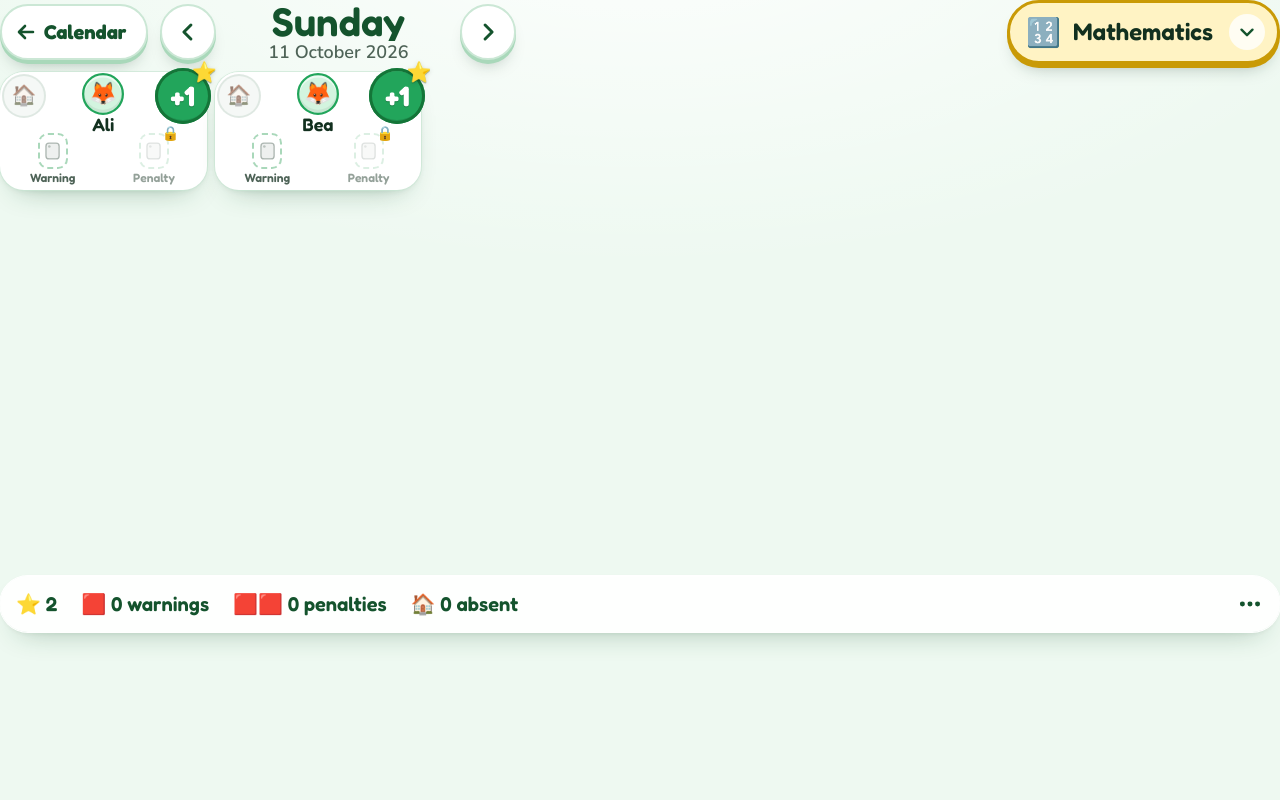
Day view › cancelling the lesson a day opened on stays on that subject
The image size is (1280, 800).
Expected: the button with aria-label "Warning for Ali" is shown, [4, 129, 101, 186]
Press Enter in the button named "More lesson options", box [1222, 576, 1278, 632]
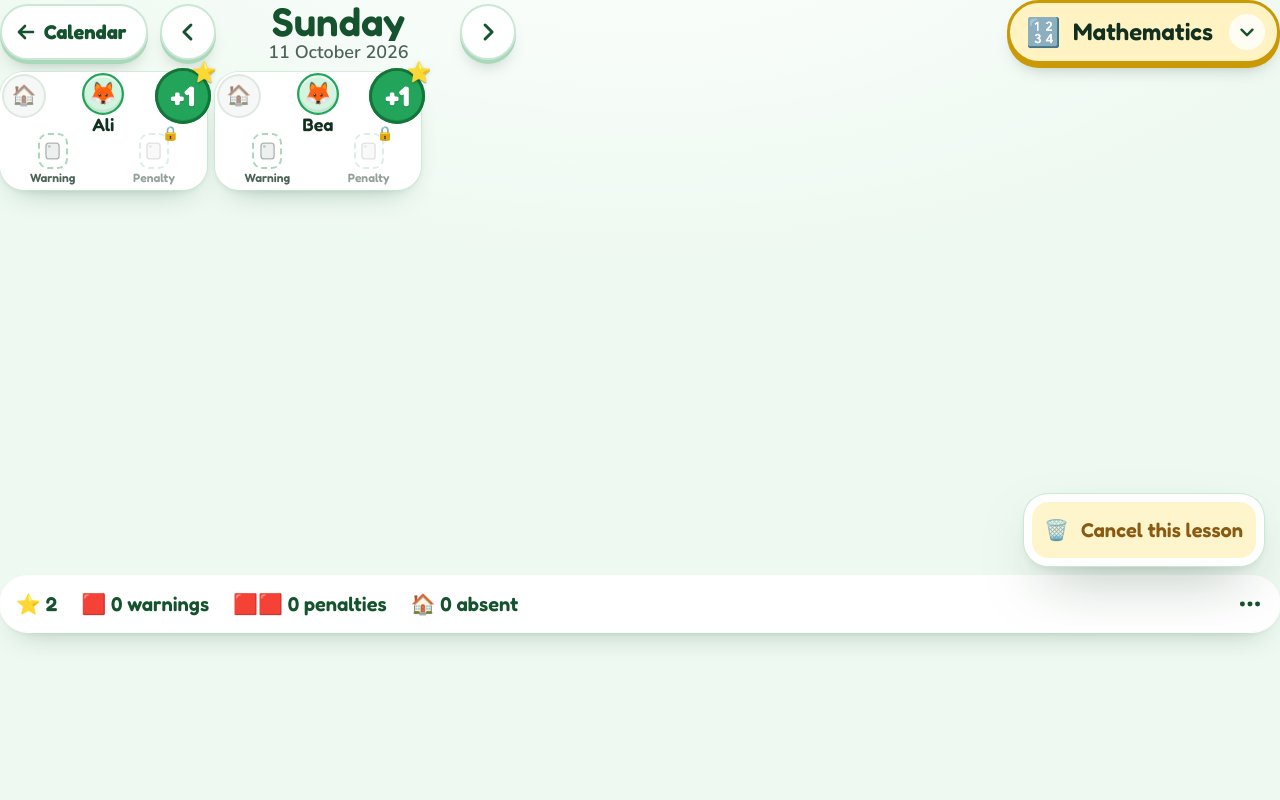
Click the menu item "🗑️ Cancel this lesson" at (1144, 530), box [1032, 502, 1256, 558]
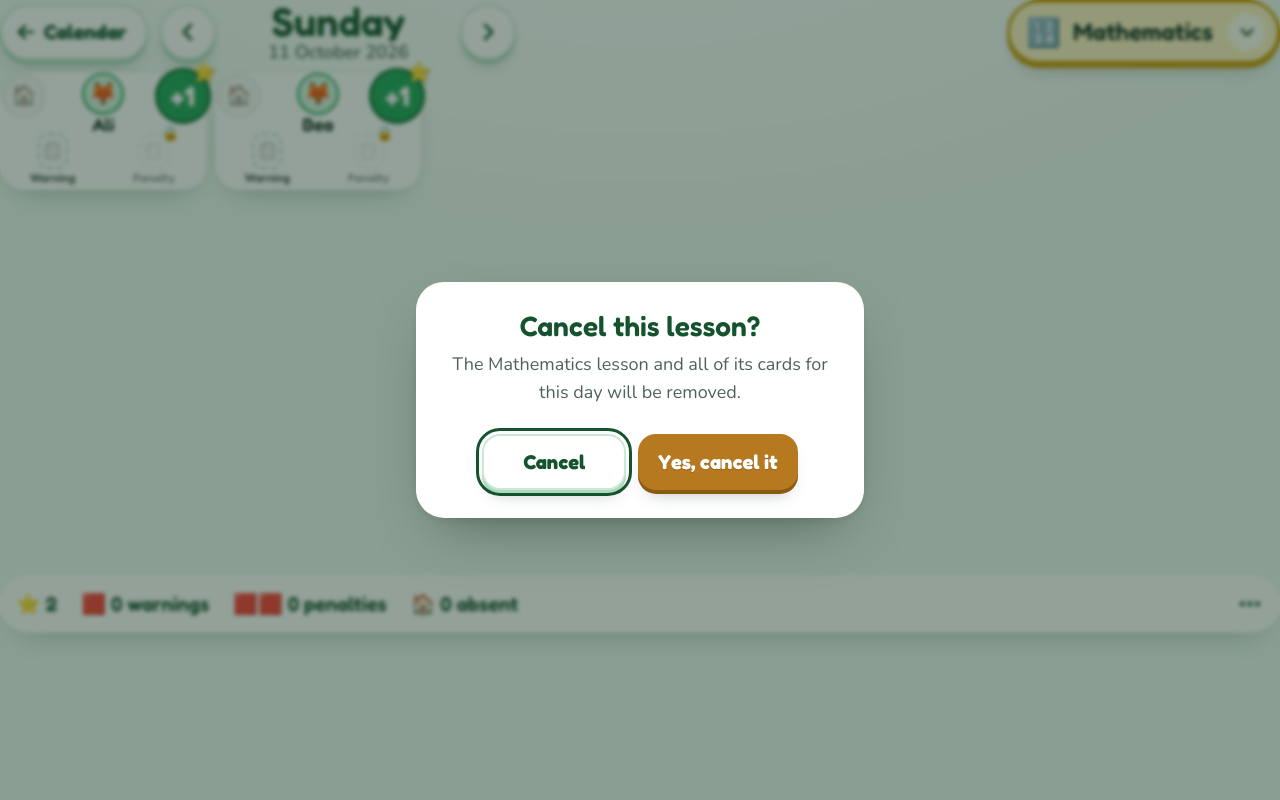
Click the button "Yes, cancel it" at (718, 462), box [638, 434, 798, 490]
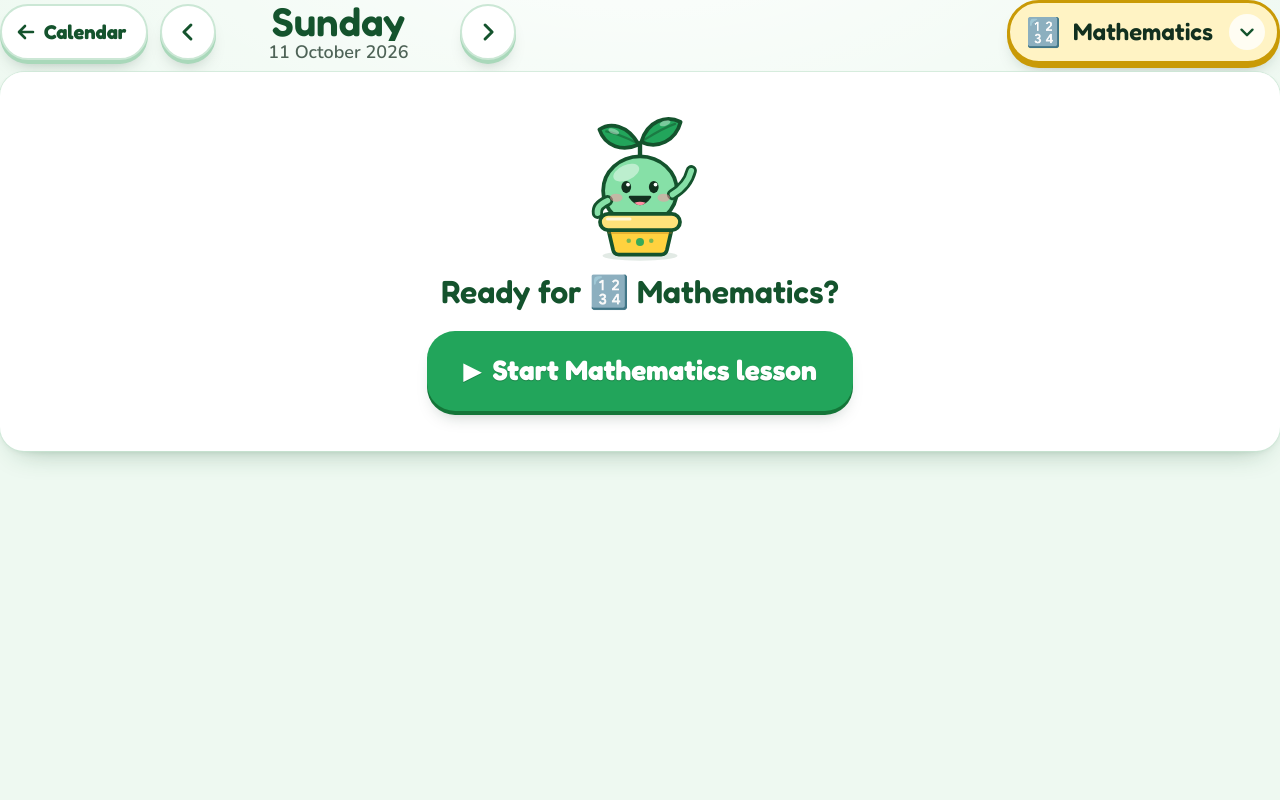
Expected: the dropdown named "Subject" shows "Mathematics", [1007, 0, 1279, 64]
Now the button "▶ Start Mathematics lesson" is shown, box [427, 331, 853, 411]
